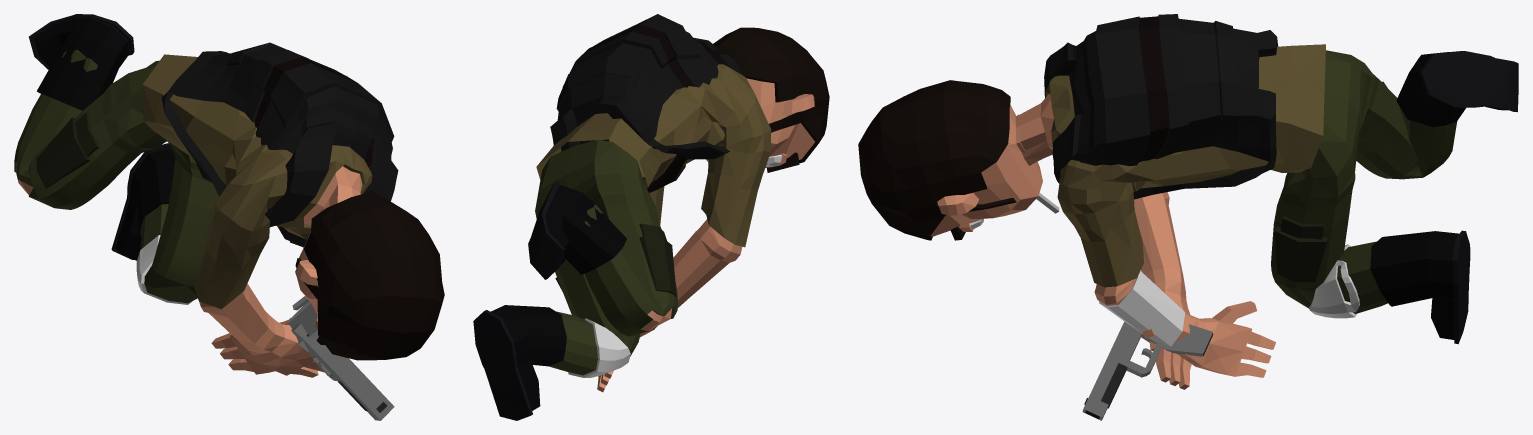
The model's file is frame_0024.obj.
The picture shows the model from 3 angles, left to right: view 1: azimuth 30°, elevation 25°; view 2: azimuth 150°, elevation 25°; view 3: azimuth 270°, elevation 25°; orthographic projection. The views are drawn at different scales.
Parts seen in each view (by area): view 1: Body, Gun; view 2: Body; view 3: Body, Gun.
Boxes of the visible parts, x1,y1,x2,y2 form: Body: (14,14,444,377); Gun: (290,318,394,420); Body: (473,14,829,420); Body: (858,14,1518,389); Gun: (1082,321,1213,420).
Bounding box in the file's own units: 1.4 × 2.1 × 3.4.
